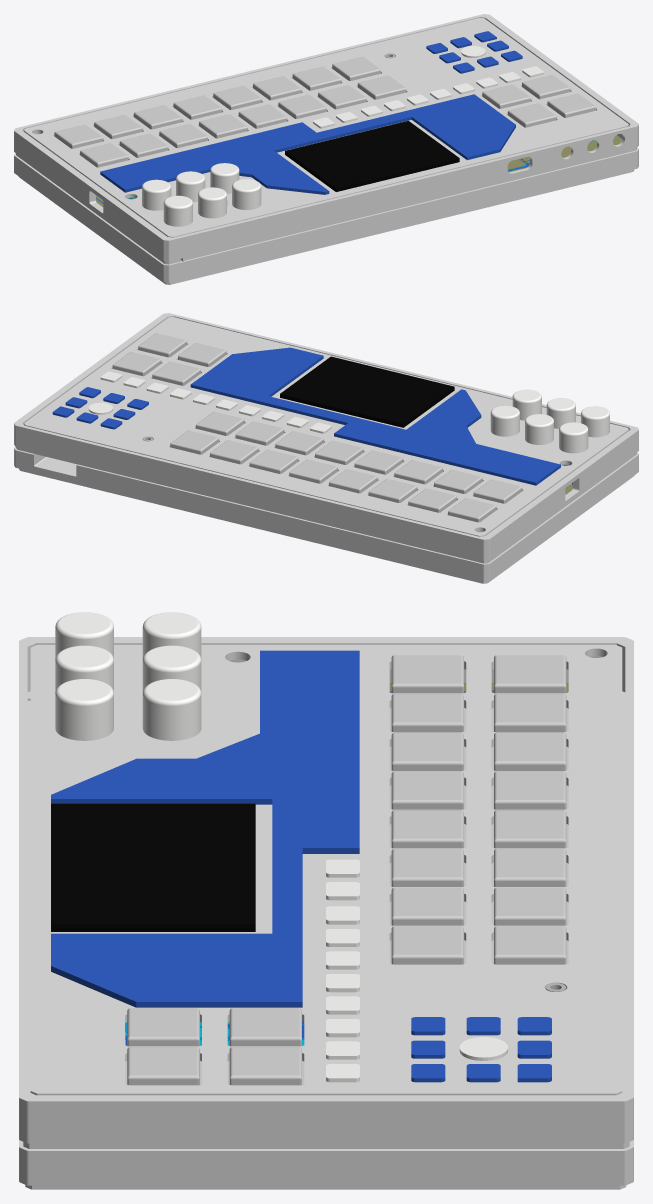
Rendered from soundboy.glb.
3 views of the same model, one above another, from view 1: azimuth 30°, elevation 25°; view 2: azimuth 150°, elevation 25°; view 3: azimuth 270°, elevation 25° (orthographic). The views are drawn at different scales.
Visible parts, largest first — view 1: Body1.003, Body3.002, Body103.002, Body4.002, Body132.002, Body48.002, Body102.002, Body93.002, Body95.002, Body94.002, Body92.002, Body90.002 (+2 smaller); view 2: Body1.003, Body3.002, Body103.002, Body4.002, Body132.002, Body48.002, Body102.002, Body90.002, Body92.002, Body91.002, Body93.002, Body94.002 (+1 smaller); view 3: Body3.002, Body1.003, Body103.002, Body4.002, Body132.002, Body48.002, Body90.002, Body95.002, Body102.002, Body91.002, Body92.002, Body93.002 (+2 smaller).
Part boxes in pixels (x1,y1,x2,y2): Body1.003: [14, 14, 638, 282]; Body3.002: [24, 18, 628, 237]; Body103.002: [100, 94, 515, 194]; Body4.002: [54, 56, 406, 167]; Body132.002: [285, 121, 459, 191]; Body48.002: [482, 75, 596, 127]; Body102.002: [18, 169, 634, 284]; Body93.002: [163, 195, 192, 226]; Body95.002: [232, 179, 261, 209]; Body94.002: [198, 187, 227, 218]; Body92.002: [142, 179, 171, 210]; Body90.002: [210, 163, 239, 193]; Body1.003: [14, 313, 638, 581]; Body3.002: [24, 317, 628, 536]; Body103.002: [190, 347, 560, 485]; Body4.002: [170, 411, 522, 532]; Body132.002: [280, 356, 454, 427]; Body48.002: [112, 333, 226, 385]; Body102.002: [19, 460, 634, 583]; Body90.002: [490, 405, 519, 436]; Body92.002: [559, 422, 588, 453]; Body91.002: [525, 414, 553, 444]; Body93.002: [581, 406, 609, 437]; Body94.002: [546, 398, 575, 428]; Body3.002: [30, 644, 622, 1095]; Body1.003: [19, 637, 633, 1185]; Body103.002: [51, 650, 359, 1007]; Body4.002: [389, 655, 568, 964]; Body132.002: [51, 803, 255, 931]; Body48.002: [125, 1008, 304, 1085]; Body90.002: [142, 679, 201, 740]; Body95.002: [55, 679, 113, 740]; Body102.002: [25, 1185, 626, 1189]; Body91.002: [142, 645, 201, 692]; Body92.002: [142, 612, 201, 659]; Body93.002: [55, 612, 113, 659].
Bounding box in the file's own units: 0.2578 × 0.0348 × 0.1443.
